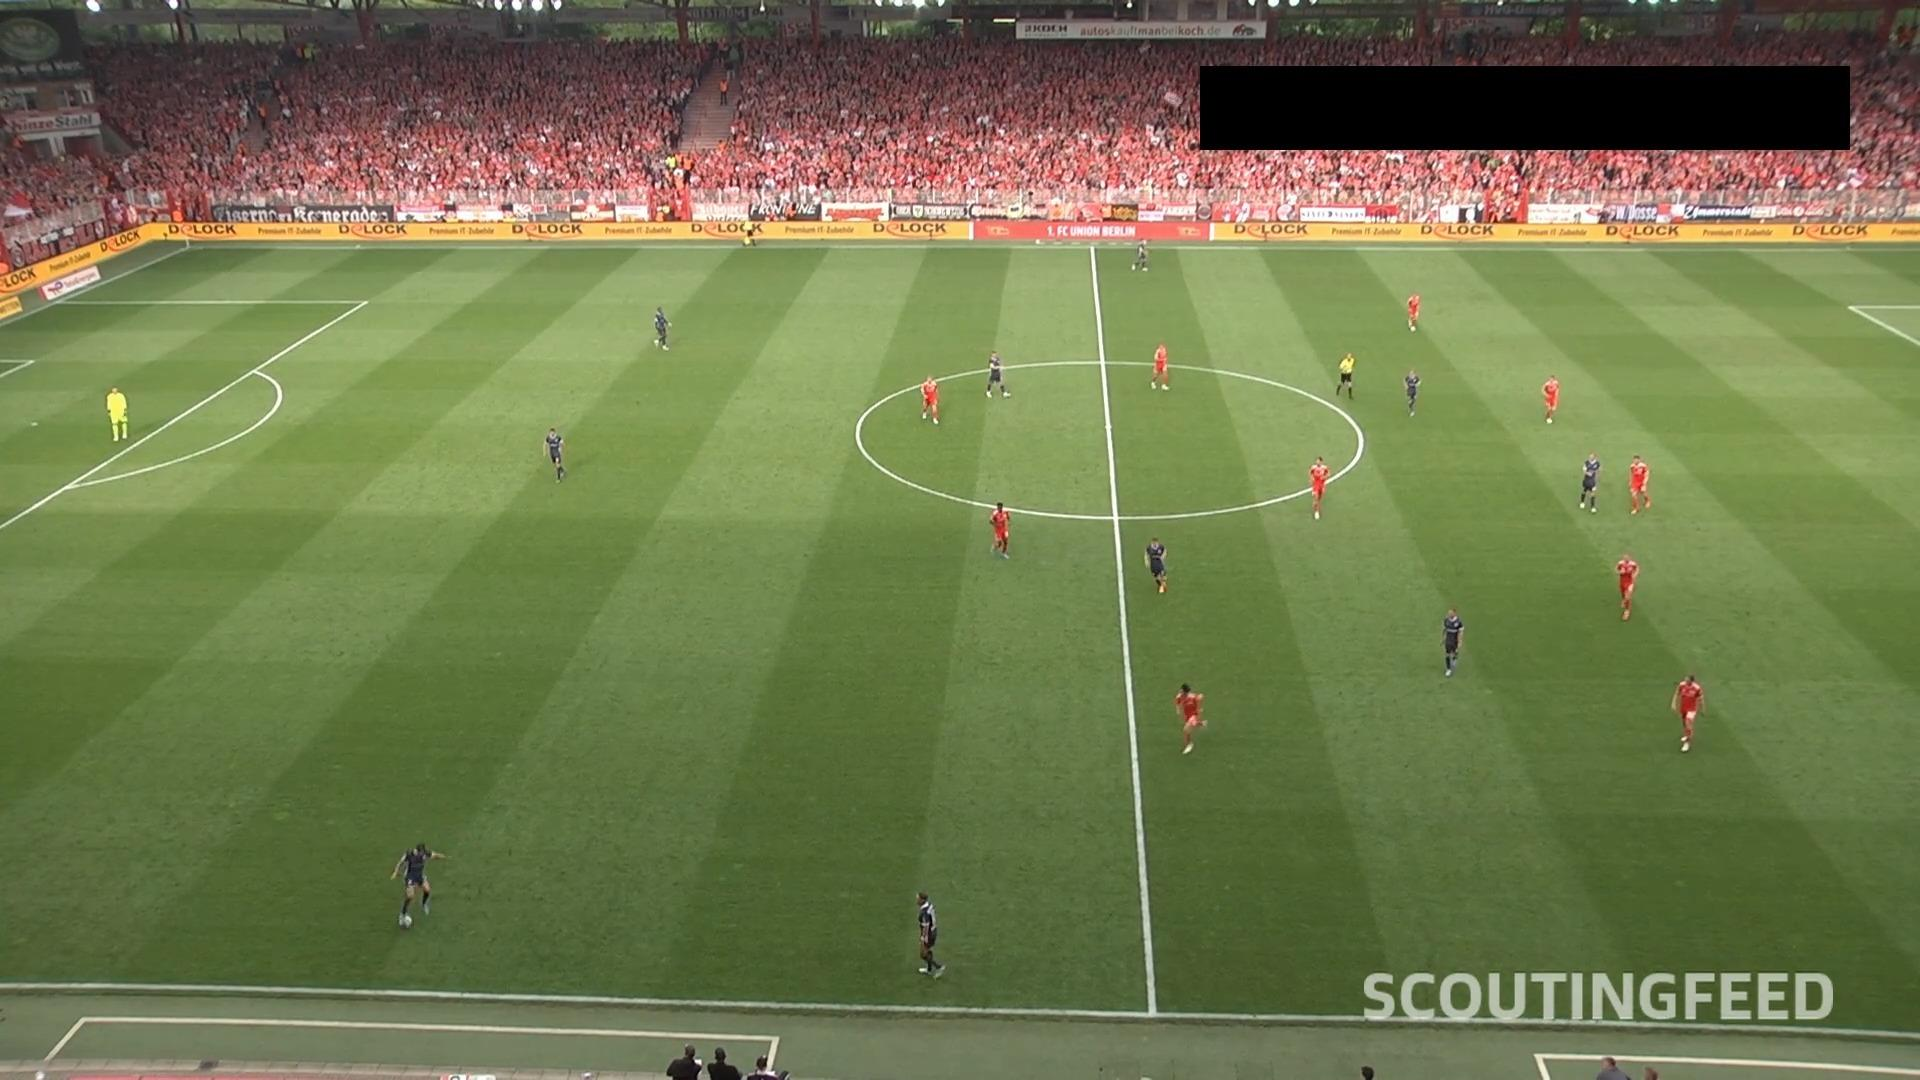ball: (397, 914, 414, 932)
